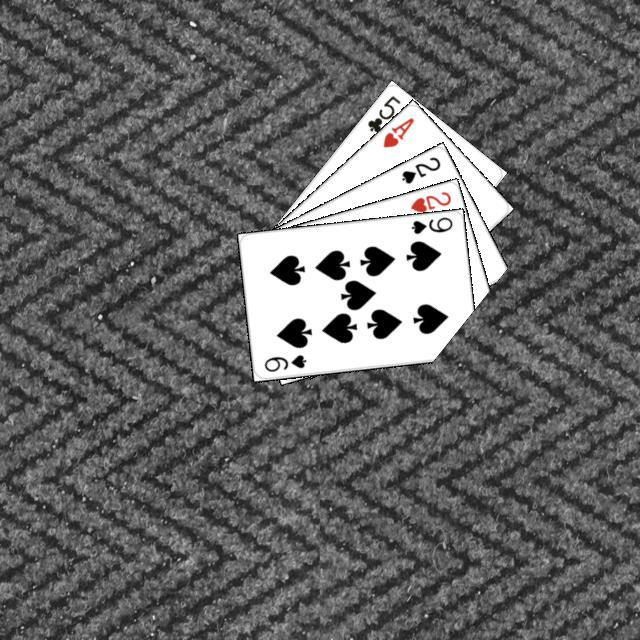2h: (405, 186, 453, 214)
2s: (397, 152, 442, 186)
5c: (362, 90, 402, 134)
9s: (406, 212, 454, 236), (259, 350, 308, 373)
Ah: (378, 112, 416, 150)
